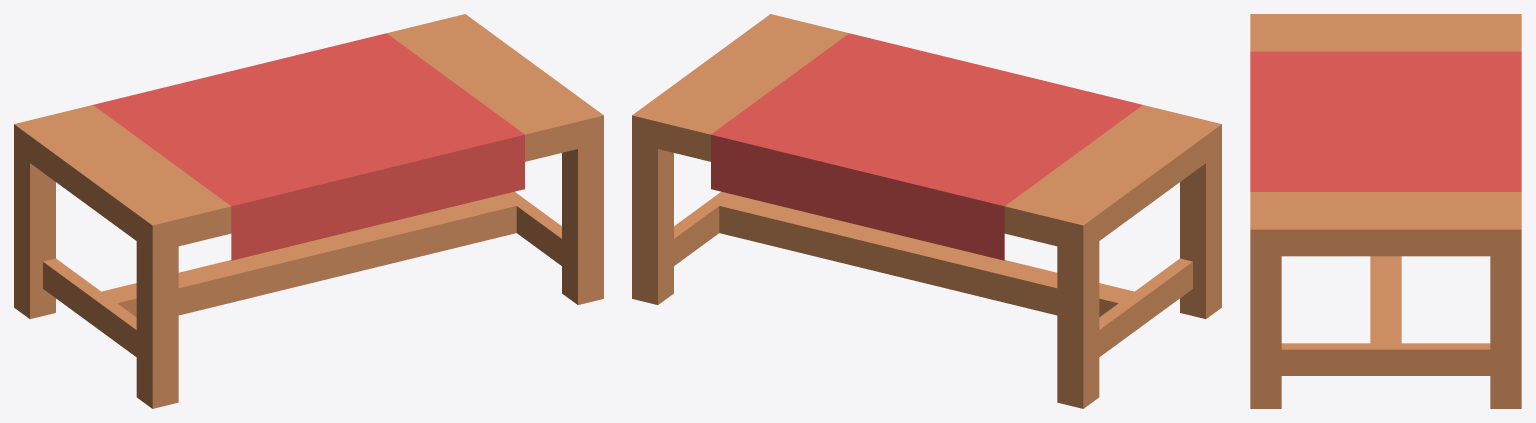
File: bench.fbx
3 renders of one model, left to right at view 1: azimuth 30°, elevation 25°; view 2: azimuth 150°, elevation 25°; view 3: azimuth 270°, elevation 25°, orthographic. The views are drawn at different scales.
Parts seen in each view (by area): view 1: tableCloth; view 2: tableCloth; view 3: tableCloth.
Boxes of the visible parts, <box> form: tableCloth: <box>14,14,603,408</box>; tableCloth: <box>632,14,1221,408</box>; tableCloth: <box>1250,14,1521,408</box>.
Bounding box in the file's own units: 8.41 × 3.27 × 4.47.
